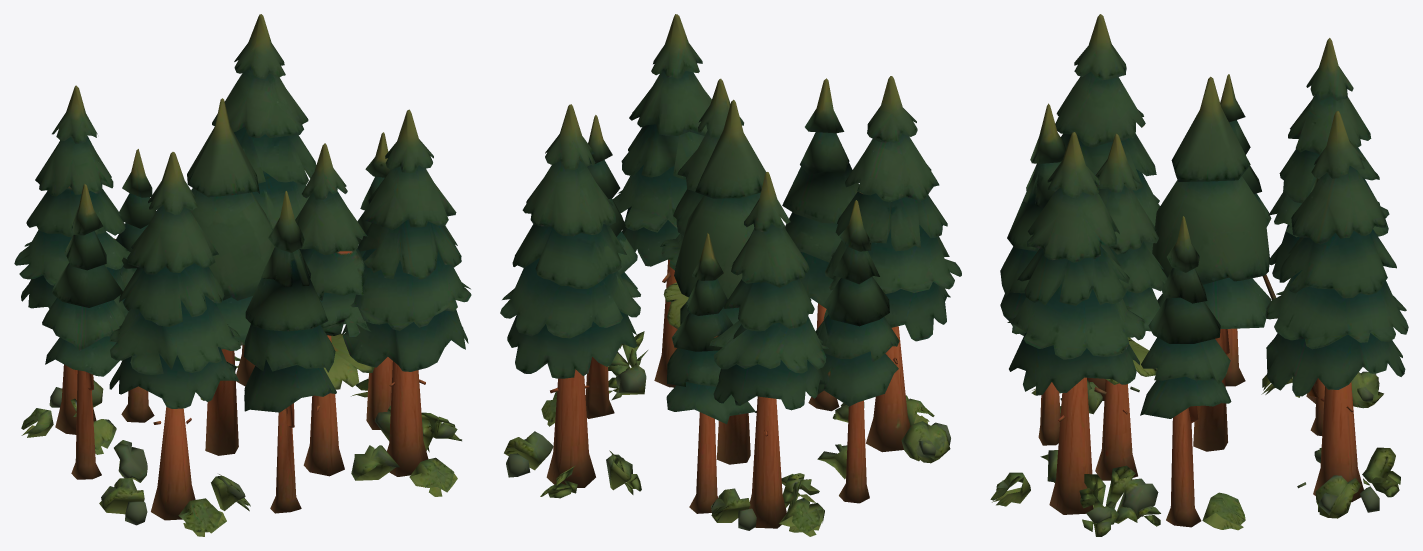
Rendered from dense_cedar_forest_cluster.glb.
3 renders of one model, left to right at view 1: azimuth 30°, elevation 25°; view 2: azimuth 150°, elevation 25°; view 3: azimuth 270°, elevation 25°, orthographic. The views are drawn at different scales.
Parts seen in each view (by area): view 1: tripo_node_346ac3ed-1dcb-440a-bb42-6ff131d002d5; view 2: tripo_node_346ac3ed-1dcb-440a-bb42-6ff131d002d5; view 3: tripo_node_346ac3ed-1dcb-440a-bb42-6ff131d002d5.
Boxes of the visible parts, bbox=[...] form: tripo_node_346ac3ed-1dcb-440a-bb42-6ff131d002d5: bbox=[14, 14, 471, 536]; tripo_node_346ac3ed-1dcb-440a-bb42-6ff131d002d5: bbox=[500, 14, 961, 536]; tripo_node_346ac3ed-1dcb-440a-bb42-6ff131d002d5: bbox=[990, 14, 1408, 536].
Bounding box in the file's own units: 0.998 × 0.998 × 0.9824.
1 material, 1 textured.
